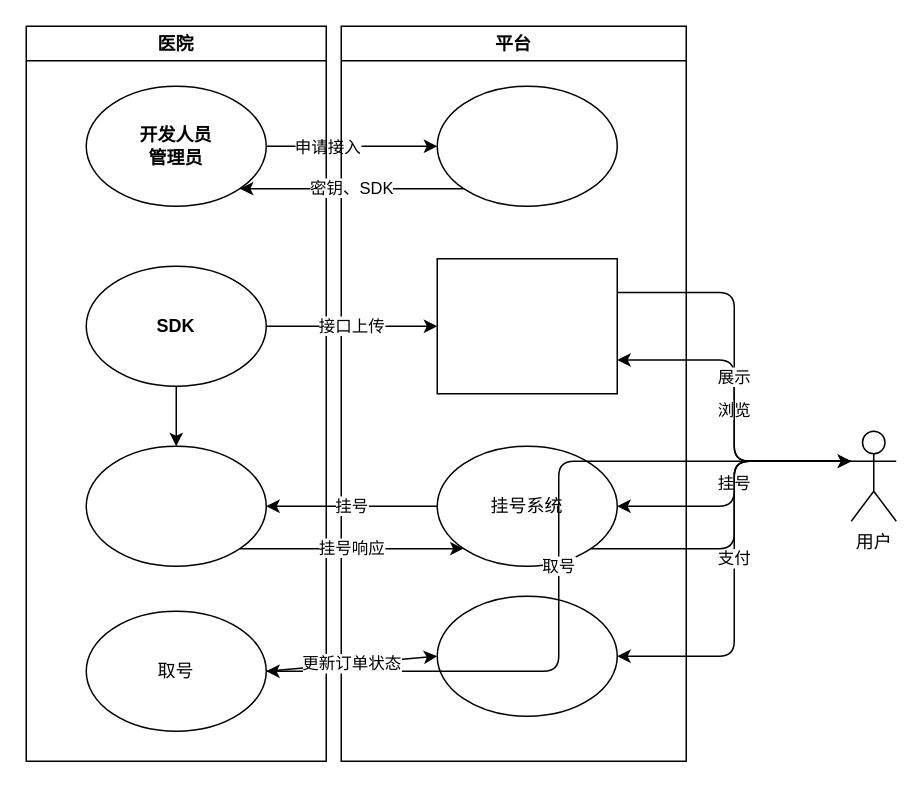
Image size: 923x788. Some labels were removed from this diagram. Each missing label, with the centre of its shape:
医院信息 科室信息 排班信息: point (526, 325)
医院挂号接口: point (175, 505)
审核: point (526, 145)
订单支付: point (526, 655)
